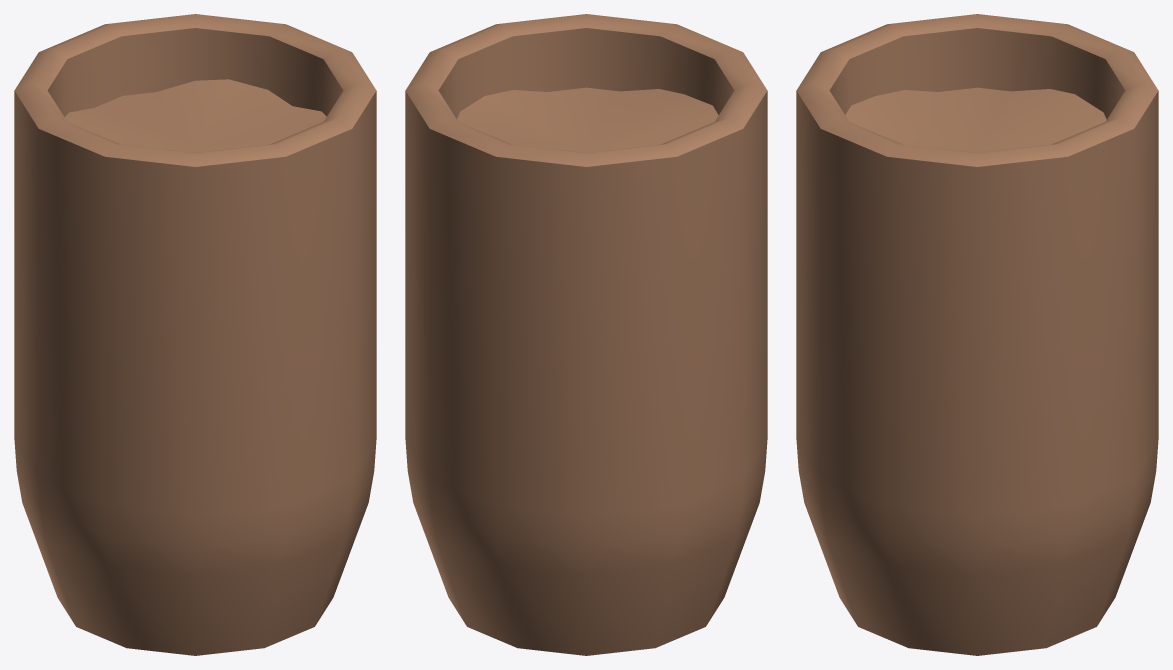
Rendered from g_juice.fbx.
3 renders of one model, left to right at view 1: azimuth 30°, elevation 25°; view 2: azimuth 150°, elevation 25°; view 3: azimuth 270°, elevation 25°, orthographic.
Parts seen in each view (by area): view 1: g_juice; view 2: g_juice; view 3: g_juice.
Boxes of the visible parts, left/top/right/bottom form: g_juice: left=14, top=14, right=376, bottom=655; g_juice: left=405, top=14, right=767, bottom=655; g_juice: left=796, top=14, right=1158, bottom=655.
Size of the model in its own units: 22 by 22 by 34.45.
